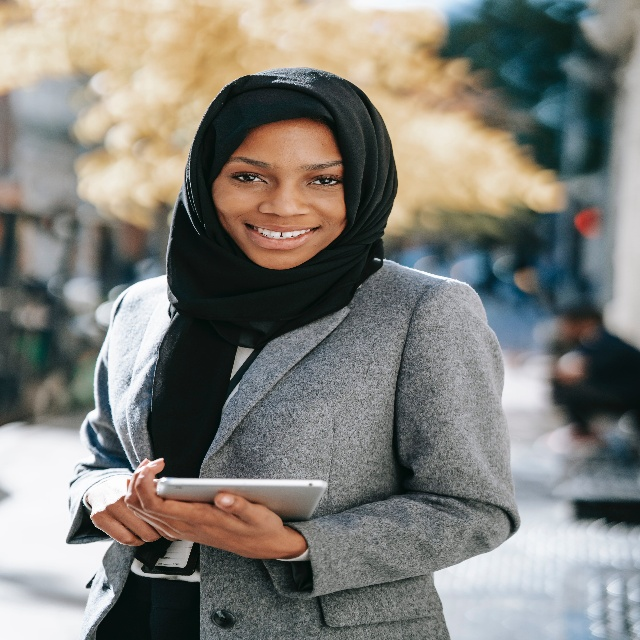Sin_guantes: (123, 457, 284, 560), (89, 476, 160, 547)
